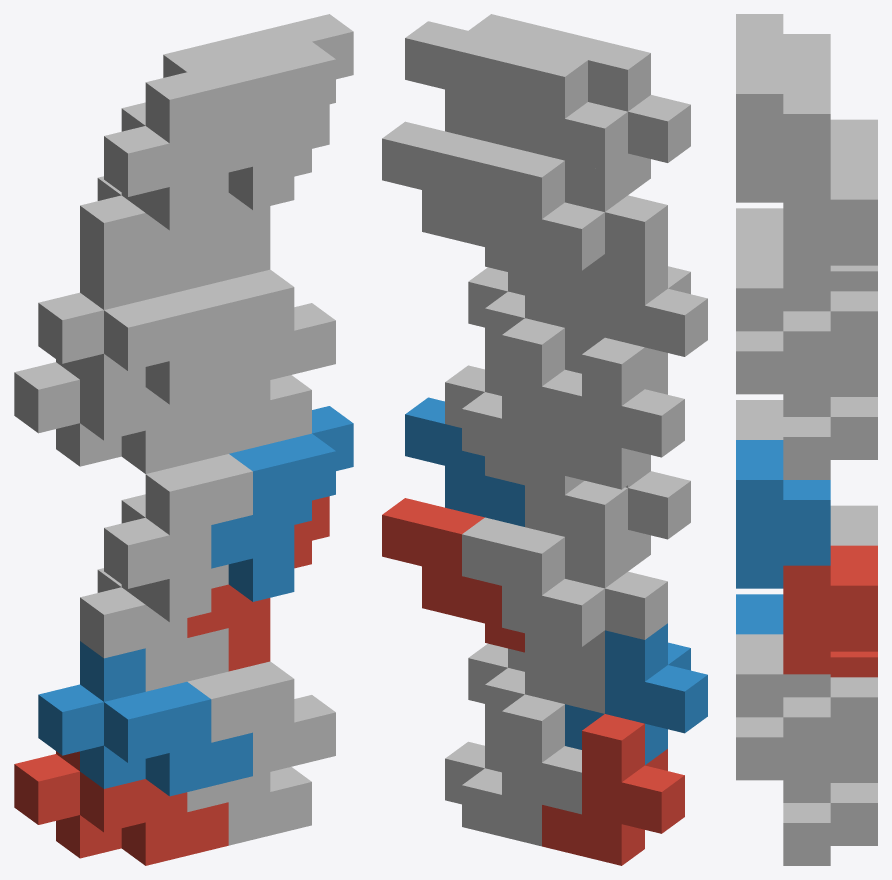
The model's file is tiling.obj.
3 renders of one model, left to right at view 1: azimuth 30°, elevation 25°; view 2: azimuth 150°, elevation 25°; view 3: azimuth 270°, elevation 25°, orthographic. The views are drawn at different scales.
Parts seen in each view (by area): view 1: copy_1_domain_2, copy_1_domain_4, copy_2_domain_4, copy_2_domain_2, copy_2_domain_8, copy_1_domain_1, copy_1_domain_3, copy_2_domain_6, copy_1_domain_8, copy_1_domain_6, copy_2_domain_3, copy_2_domain_1 (+4 smaller); view 2: copy_2_domain_4, copy_2_domain_3, copy_2_domain_1, copy_1_domain_5, copy_1_domain_7, copy_1_domain_3, copy_1_domain_1, copy_2_domain_2, copy_2_domain_8, copy_1_domain_2, copy_1_domain_4, copy_2_domain_5 (+4 smaller); view 3: copy_1_domain_5, copy_1_domain_7, copy_2_domain_8, copy_2_domain_6, copy_1_domain_6, copy_1_domain_8, copy_2_domain_5, copy_2_domain_7, copy_2_domain_4, copy_1_domain_2, copy_1_domain_4, copy_2_domain_1 (+4 smaller).
Part boxes in pixels (x1,y1,x2,y2): copy_1_domain_2: (38,641,252,796); copy_1_domain_4: (38,249,252,404); copy_2_domain_4: (104,34,269,230); copy_2_domain_2: (104,454,252,622); copy_2_domain_8: (211,14,353,209); copy_1_domain_1: (14,751,228,865); copy_1_domain_3: (14,359,228,473); copy_2_domain_6: (211,406,353,601); copy_1_domain_8: (187,236,335,384); copy_1_domain_6: (187,628,335,775); copy_2_domain_3: (80,172,228,299); copy_2_domain_1: (80,564,228,691); copy_2_domain_4: (485,33,690,194); copy_2_domain_3: (462,141,667,295); copy_2_domain_1: (462,517,667,671); copy_1_domain_5: (445,694,581,846); copy_1_domain_7: (445,318,581,469); copy_1_domain_3: (542,337,684,489); copy_1_domain_1: (542,714,684,865); copy_2_domain_2: (485,453,690,571); copy_2_domain_8: (405,14,570,150); copy_1_domain_2: (565,623,707,764); copy_1_domain_4: (565,247,707,388); copy_2_domain_5: (382,498,524,652); copy_1_domain_5: (783,677,877,865); copy_1_domain_7: (783,291,877,479); copy_2_domain_8: (736,54,830,202); copy_2_domain_6: (736,440,830,588); copy_1_domain_6: (736,634,830,780); copy_1_domain_8: (736,248,830,394); copy_2_domain_5: (783,545,877,674); copy_2_domain_7: (783,159,877,288); copy_2_domain_4: (736,14,830,73); copy_1_domain_2: (736,594,783,634); copy_1_domain_4: (736,208,783,248); copy_2_domain_1: (830,505,877,545).
Bounding box in the file's own units: 7 × 18 × 3.
